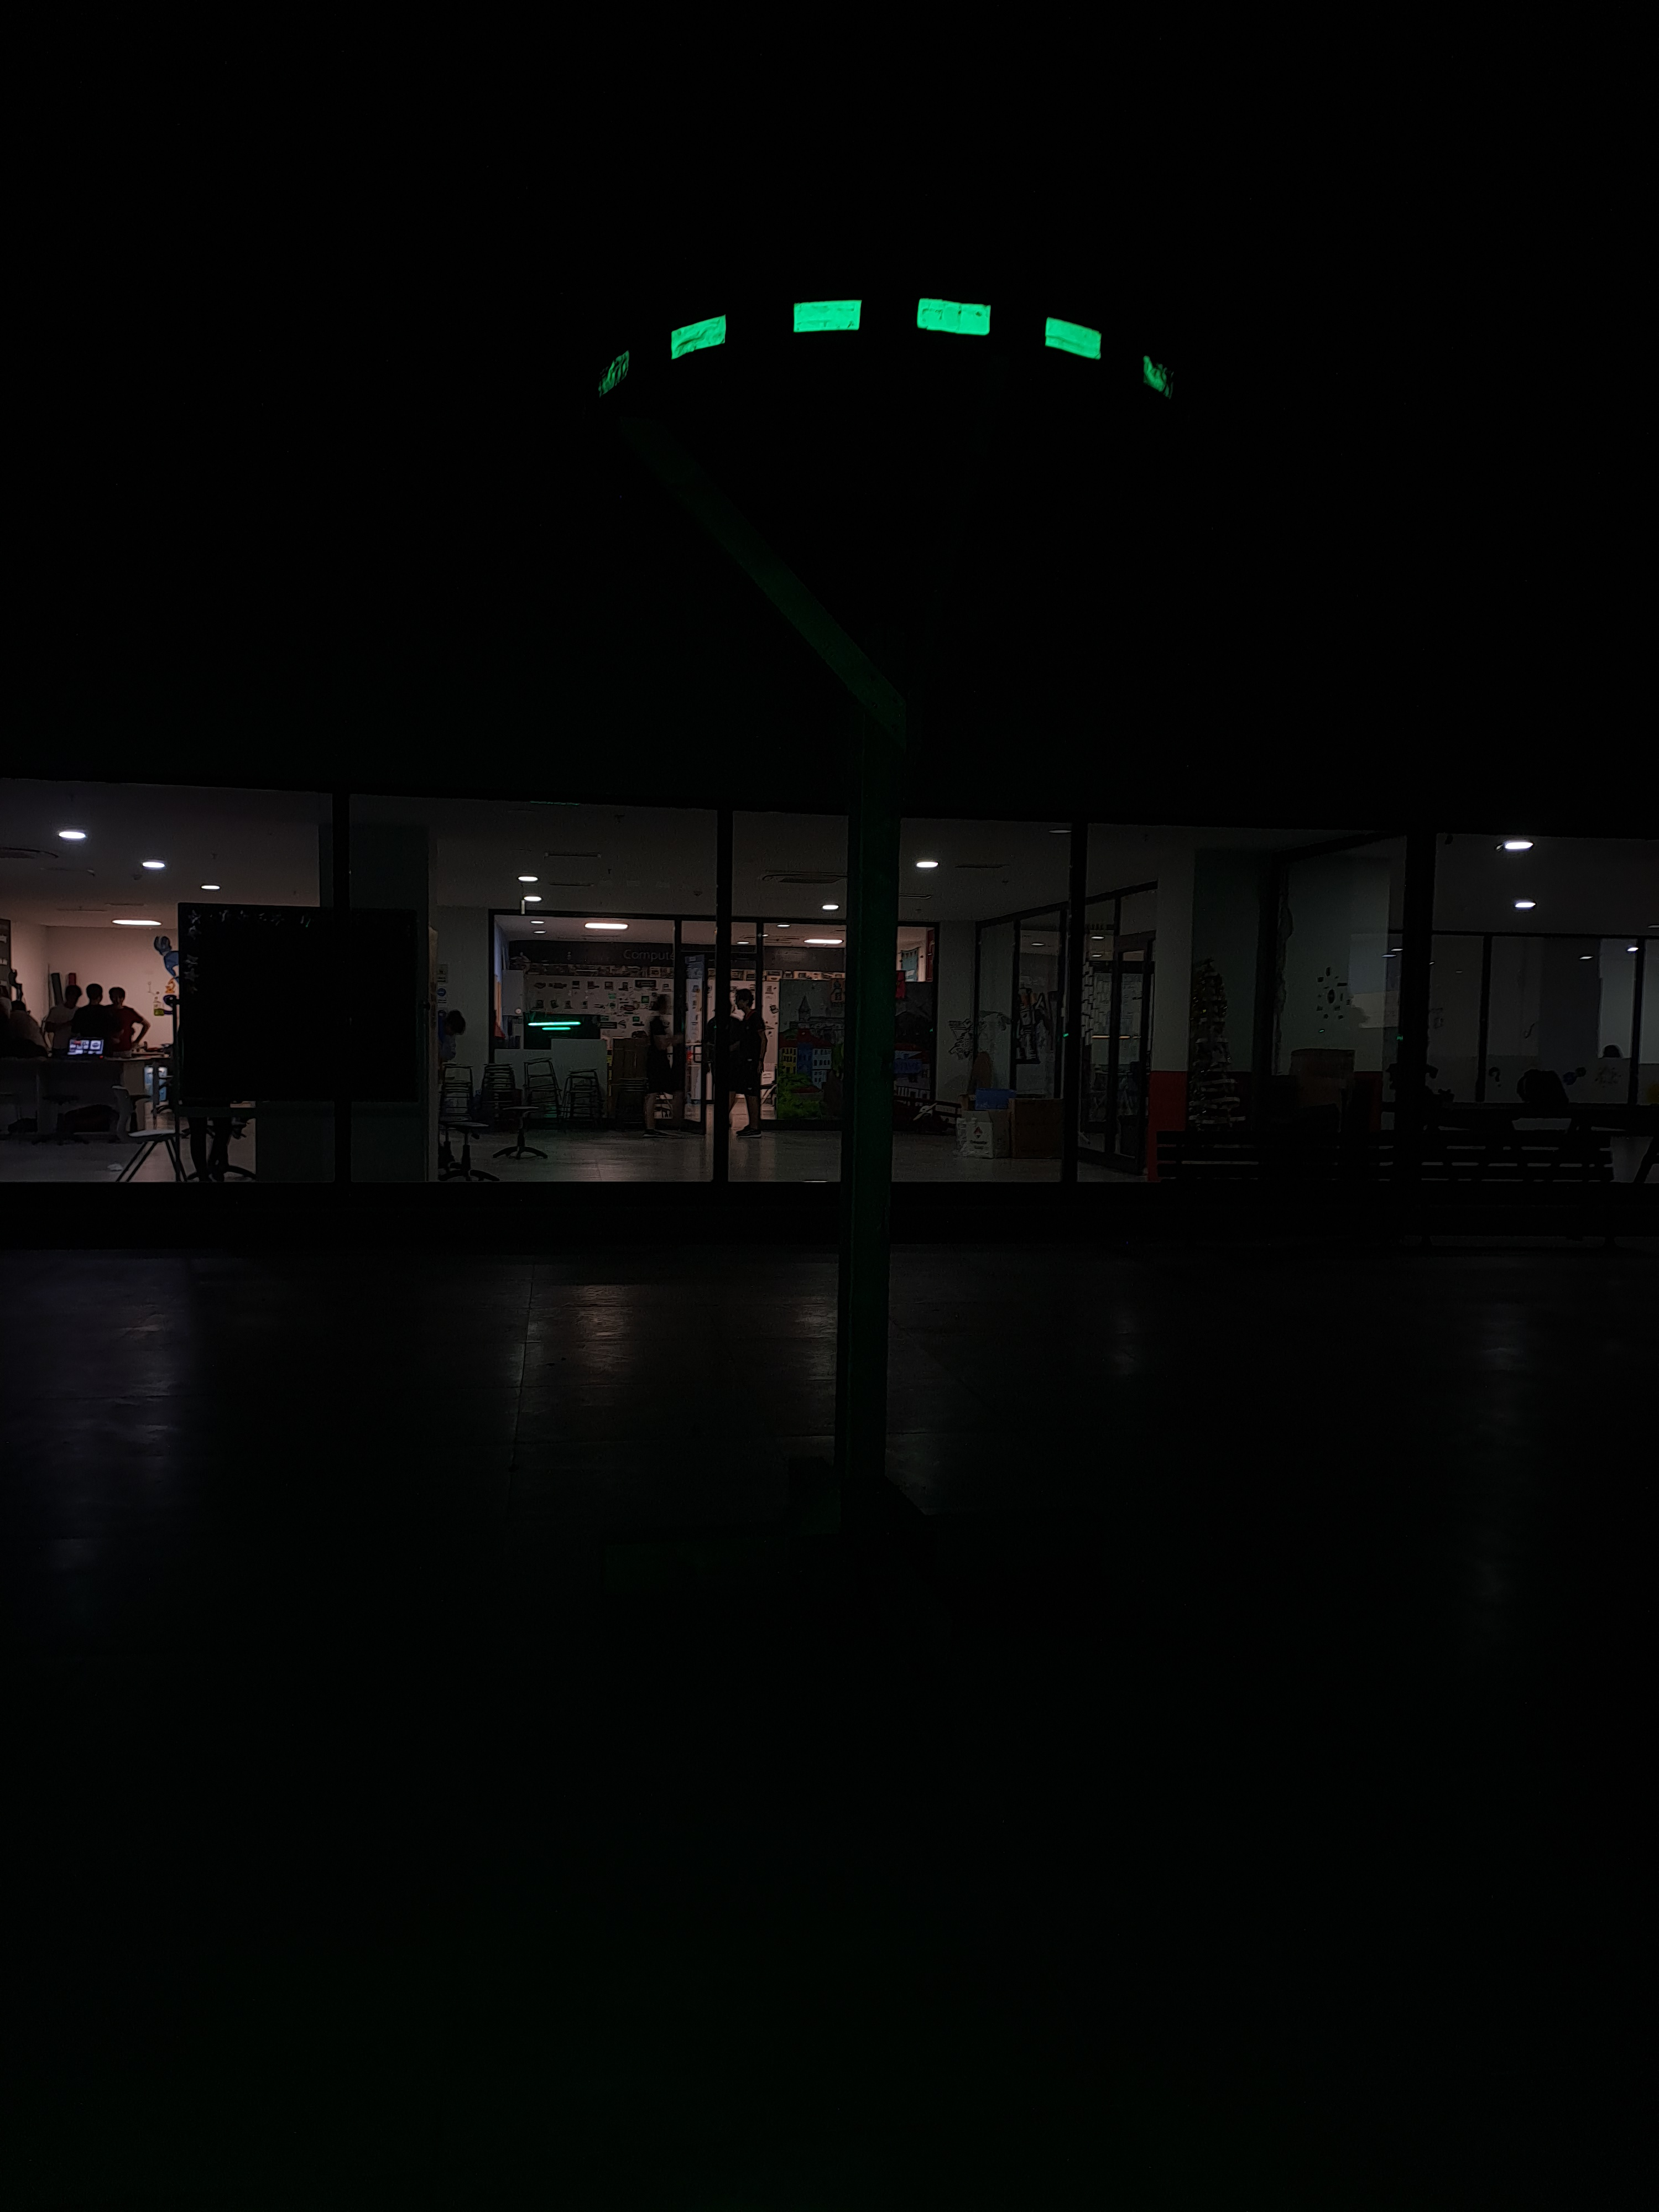hoop: (605, 294, 1180, 409)
